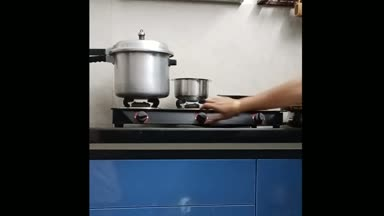flame_gas_off: (123, 97, 156, 125)
flame_gas_on: (178, 99, 203, 109)
